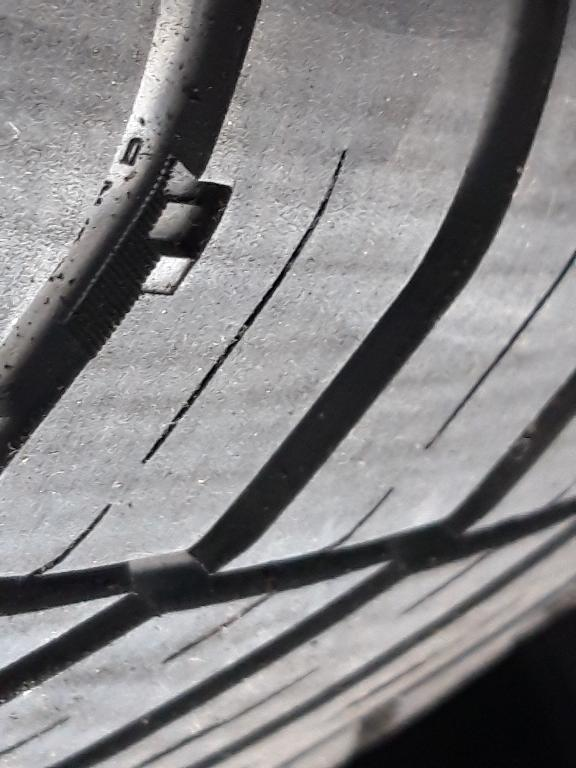temoin:50: (102, 147, 245, 308)
